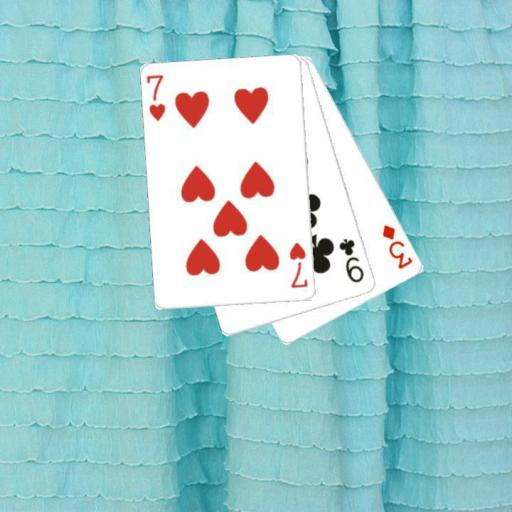3D: (379, 221, 415, 271)
7H: (287, 239, 310, 290), (144, 72, 167, 122)
9C: (336, 235, 366, 285)
